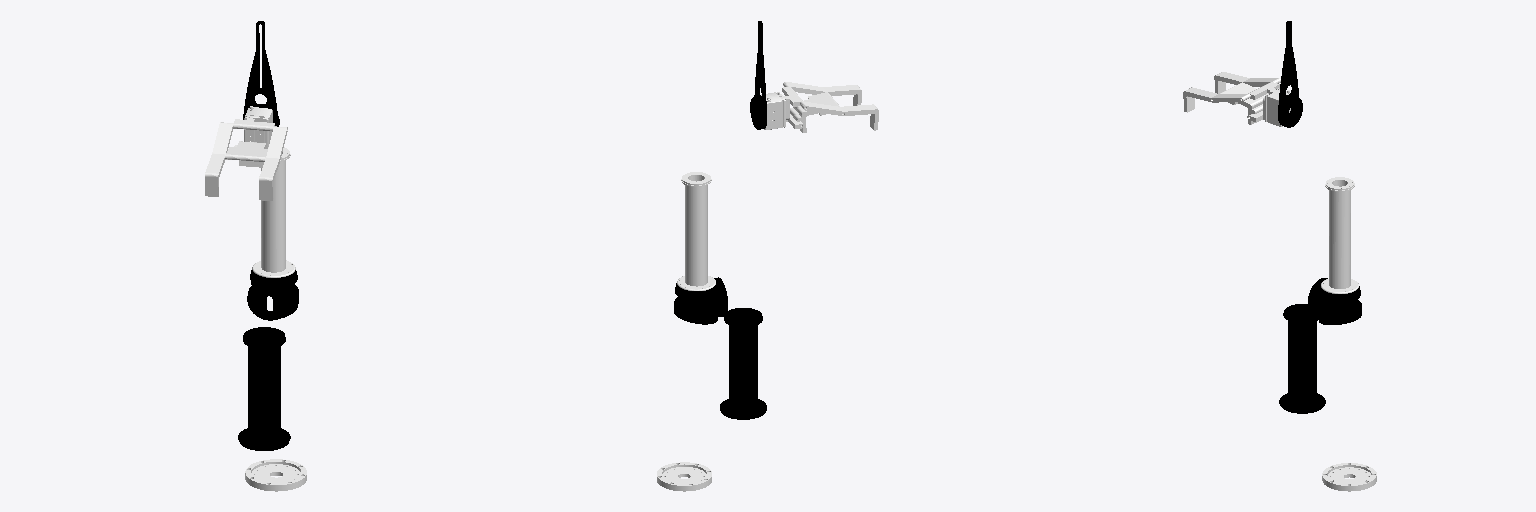
The robot description file, URDF, robot "mr5_v5":
<robot name="mr5_v5">
 <property name = "pi" value = "3.14159265"/>
  <material name ="black">
    <color rgba = "0.0 0.0 0.0 0.7"/>
  </material>
    <material name ="write">
    <color rgba = "1.0 1.0 1.0 0.7"/>
  </material>

 <link name="base">
    <visual>
      <geometry>
        <mesh filename="package://mr5_v5/urdf/meshes/25BASEPAN.stl"/>
      </geometry>
      <origin xyz="0 0 15" rpy="0 0 0"/>
      <material name ="write"/> 
    </visual>
  <collision>
      <geometry>
        <mesh filename="package://mr5_v5/urdf/meshes/25BASEPAN.stl"/>
      </geometry>
  </collision>
  </link>

 <link name="mr25_1">
    <visual>
      <geometry>
        <mesh filename="package://mr5_v5/urdf/meshes/25_ASM.stl"/>
      </geometry>
      <!--origin xyz="0 -61.835 43.5" rpy="0 0 0"/-->
      <origin xyz="61.831 0 -15.28" rpy="0 1.57 1.57"/>
      <material name ="black"/>
    </visual>
  <collision>
      <geometry>
        <mesh filename="package://mr5_v5/urdf/meshes/25_ASM.stl"/>
      </geometry>
  </collision>
  </link>
  
  <joint name="joint1" type="revolute">
    <parent link="base"/>
    <child link="mr25_1"/>
    <origin xyz="0 0 87" rpy="0 0 0" />
    <axis xyz="0 0 1"/>
    <limit effort="30" lower="-4.1415" upper="-0.3925" velocity="1.517"/>
  </joint> 

  <link name="mr25_2">
    <visual>
      <geometry>
        <!--box size="10 10 151.88"/-->
        <mesh filename="package://mr5_v5/urdf/meshes/25_ASM.stl"/>
      </geometry>
      <origin xyz="61.831 0 -15.28" rpy="-1.57 1.57 0"/>
      <material name ="write"/>
    </visual>
  <collision>
      <geometry>
        <mesh filename="package://mr5_v5/urdf/meshes/25_ASM.stl"/>
      </geometry>
  </collision>
  </link>

  <joint name="joint2" type="revolute">
    <parent link="mr25_1"/>
    <child link="mr25_2"/>
    <!--origin xyz="-87 0 -151.88" rpy="1.57 -1.57 1.57" /-->
     <origin xyz="151.88 0 0" rpy="0 -1.57 3.14"/>
    <axis xyz="0 0 1"/>
    <limit effort="30" lower="-1.04" upper="1.04" velocity="1.517"/>
  </joint>

 <link name="link1">
    <visual>
      <geometry>
        <!--box size="383.88 10 10 "/-->
        <mesh filename="package://mr5_v5/urdf/meshes/25to20.stl"/>
      </geometry>
      <origin xyz="157.935 0 0" rpy="0 0 -1.57"/>
      <material name ="black"/>
    </visual>
  <collision>
      <geometry>
        <mesh filename="package://mr5_v5/urdf/meshes/25to20.stl"/>
      </geometry>
  </collision>
  </link>

  <joint name="fix_1" type="revolute">
    <parent link="mr25_2"/>
    <child link="link1"/>
    <origin xyz="0 0 0" rpy="0 0 0" />
    <axis xyz="0 0 1"/>
    <limit effort="0" lower="0" upper="0" velocity="0"/>
  </joint>

  <link name="mr20">
    <visual>
      <geometry>
        <!--box size="10 10 -120.5 "/-->
        <mesh filename="package://mr5_v5/urdf/meshes/20_ASM.stl"/>
      </geometry>
      <origin xyz="0 0 55.5" rpy="3.14 0 1.57"/>
      <material name ="write"/>
    </visual>
  <collision>
      <geometry>
        <mesh filename="package://mr5_v5/urdf/meshes/20_ASM.stl"/>
      </geometry>
  </collision>
  </link>

  <joint name="fix_2" type="revolute">
    <parent link="link1"/>
    <child link="mr20"/>
    <origin xyz="383.88 0 0" rpy="0 0 0" />
    <axis xyz="0 0 1"/>
    <limit effort="0" lower="0" upper="0" velocity="0"/>
  </joint> 

    <link name="link2_1">
    <visual>
      <geometry>
        <!--box size="376.5 10 10 "/-->
        <mesh filename="package://mr5_v5/urdf/meshes/link_elbow.stl"/>
      </geometry>
      <origin xyz="-54.1 0 0" rpy="-1.57 0 -1.57"/>
      <material name ="black"/>
    </visual>
  <collision>
      <geometry>
        <mesh filename="package://mr5_v5/urdf/meshes/link_elbow.stl"/>
      </geometry>
  </collision>
  </link>

  <joint name="joint3" type="revolute">
    <parent link="mr20"/>
    <child link="link2_1"/>
    <origin xyz="0 0 -120.5" rpy="0 0 0" />
    <axis xyz="0 0 1"/>
    <limit effort="30" lower="-3.14" upper="0" velocity="1.517"/>
  </joint>

  <link name="link2_2">
    <visual>
      <geometry>
        <!--box size="10 10 99.5 "/-->
        <mesh filename="package://mr5_v5/urdf/meshes/20to14.stl"/>
      </geometry>
      <!--origin xyz="-354 0 -120.5" rpy="0 0 -1.57"/-->
      <origin xyz="22.5 0 0" rpy="0 0 -1.57"/>
      <material name ="write"/>
    </visual>
  <collision>
      <geometry>
        <mesh filename="package://mr5_v5/urdf/meshes/20to14.stl"/>
      </geometry>
  </collision>
  </link>

  <joint name="fix_3" type="revolute">
    <parent link="link2_1"/>
    <child link="link2_2"/>
    <origin xyz="0 0 0" rpy="0 0 0" />
    <axis xyz="0 0 1"/>
    <limit effort="0" lower="0" upper="0" velocity="0"/>
  </joint>

   <link name="mr14_1">
    <visual>
      <geometry>
        <!--box size="10 10 100.25"/-->
        <mesh filename="package://mr5_v5/urdf/meshes/14Series.stl"/>
      </geometry>
      <origin xyz="0 0 -64" rpy="3.14 0 -1.57"/>
      <material name ="black"/>
    </visual>
  <collision>
      <geometry>
         <mesh filename="package://mr5_v5/urdf/meshes/14Series.stl"/>
      </geometry>
  </collision>
  </link>

  <joint name="fix_4" type="revolute">
    <parent link="link2_2"/>
    <child link="mr14_1"/>
   <origin xyz="376.5 0 0" rpy="3.14 0 0" />
    <axis xyz="0 0 1"/>
    <limit effort="0" lower="0" upper="0" velocity="0"/>
  </joint>

 <link name="mr14_2">
    <visual>
      <geometry>
        <!--box size="10 10 53.25"/-->
        <mesh filename="package://mr5_v5/urdf/meshes/14Series.stl"/>
      </geometry>
      <origin xyz="0 0 -64.75" rpy="0 3.14 0"/>
      <material name ="write"/>
    </visual>
  <collision>
      <geometry>
         <mesh filename="package://mr5_v5/urdf/meshes/14Series.stl"/>
      </geometry>
  </collision>
  </link>

    <joint name="joint4" type="revolute">
    <parent link="mr14_1"/>
    <child link="mr14_2"/>
    <origin xyz="0 0 -99.5" rpy="1.57 0 -1.57" />
    <axis xyz="0 1 0"/>
    <limit effort="30" lower="0" upper="3.14" velocity="1.517"/>
  </joint> 

  <link name="mr14_3">
    <visual>
      <geometry>
        <!--box size="10 10 53.25"/-->
        <mesh filename="package://mr5_v5/urdf/meshes/14Series.stl"/>
      </geometry>
      <!--origin xyz="0 0 -64.75" rpy="0 3.14 3.14"/-->
      <origin xyz="0 0 -64.75" rpy="3.14 0 -1.57"/>
      <material name ="write"/>
    </visual>
      <collision>
      <geometry>
         <mesh filename="package://mr5_v5/urdf/meshes/14Series.stl"/>
      </geometry>
  </collision>
  </link>

  <joint name="joint5" type="revolute">
    <parent link="mr14_2"/>
    <child link="mr14_3"/>
    <!--origin xyz="0 0 -100.25" rpy="1.57 3.14 0" /-->
    <origin xyz="0 0 -100.25" rpy="-1.57 1.57 0" />
    <axis xyz="1 0 0"/>
    <limit effort="30" lower="-3.14" upper="3.14" velocity="1.517"/>
  </joint> 
  

<link name="mr14tocamera">
  <visual>
    <geometry>

      <mesh filename="package://mr5_v5/urdf/meshes/mr14tocamera.stl"/>
    </geometry>
    <!--origin xyz="0 0 -12.5" rpy="0 0 0"/-->
    <origin xyz="0 0 12.5" rpy="3.14 0 1.57"/>
    <material name ="black"/>
  </visual>
    <collision>
    <geometry>
       <mesh filename="package://mr5_v5/urdf/meshes/mr14tocamera.stl"/>
    </geometry>
</collision>
</link>


<joint name="joint6" type="revolute">
  <parent link="mr14_3"/>
  <child link="mr14tocamera"/>
  <!--origin xyz="0 0 -65.7" rpy="3.14 0 1.57"/-->
  <origin xyz="0 0 -65.7" rpy="0 0 0"/>
  <axis xyz="0 0 1"/>
  <limit effort="30" lower="-3.14" upper="3.14" velocity="1.517"/>
</joint>


<link name="gripper">
  <visual>
    <geometry>
      <mesh filename="package://mr5_v5/urdf/meshes/parallel_assy_asm.stl"/>
    </geometry>
    <!--origin xyz="0 0 -128.8" rpy="-1.57 3.14 0"/-->
    <origin xyz="0 0 128.8" rpy="-1.57 0 -1.57"/>
    <material name ="write"/>
  </visual>
    <collision>
    <geometry>
       <mesh filename="package://mr5_v5/urdf/meshes/parallel_assy_asm.stl"/>
    </geometry>
</collision>
</link>

<joint name="fix_5" type="revolute">
  <parent link="mr14tocamera"/>
  <child link="gripper"/>
 <origin xyz="0 0 -185.1" rpy="0 0 0" />
  <axis xyz="0 0 1"/>
  <limit effort="0" lower="0" upper="0" velocity="0"/>
</joint>


</robot>

--- Facts derived from the render (not from the file) ---
3 views of the same robot in one strip: view 1: azimuth 30°, elevation 25°; view 2: azimuth 150°, elevation 25°; view 3: azimuth 270°, elevation 25° (orthographic).
Model mr5_v5 with 12 links and 11 joints (11 revolute), rooted at base, posed all joints at 0 but 1 set to mid-range because 0 is outside their limits (joint1 = -2.27).
Visible links, largest first — view 1: link1, gripper, link2_2, link2_1, base, mr14tocamera; view 2: link1, gripper, link2_2, link2_1, base, mr14tocamera; view 3: link1, gripper, link2_2, link2_1, mr14tocamera, base.
Boxes of the visible links, bbox=[...] form: link1: bbox=[238, 327, 290, 450]; gripper: bbox=[205, 106, 287, 200]; link2_2: bbox=[252, 147, 295, 277]; link2_1: bbox=[247, 270, 298, 320]; base: bbox=[245, 459, 306, 491]; mr14tocamera: bbox=[243, 21, 279, 126]; link1: bbox=[720, 308, 766, 419]; gripper: bbox=[761, 82, 878, 132]; link2_2: bbox=[677, 172, 715, 290]; link2_1: bbox=[674, 277, 727, 324]; base: bbox=[657, 462, 711, 491]; mr14tocamera: bbox=[750, 21, 766, 129]; link1: bbox=[1279, 304, 1325, 413]; gripper: bbox=[1183, 72, 1290, 126]; link2_2: bbox=[1321, 177, 1358, 293]; link2_1: bbox=[1308, 278, 1361, 324]; mr14tocamera: bbox=[1278, 21, 1302, 127]; base: bbox=[1322, 463, 1376, 491].
Size in the robot's own frame: 430 by 479 by 1193 metres.
Meshes: 9 distinct files referenced, 6 mesh visuals loaded (6 binary STL); not drawn: 6 (reference not matched to a file when rendering).
